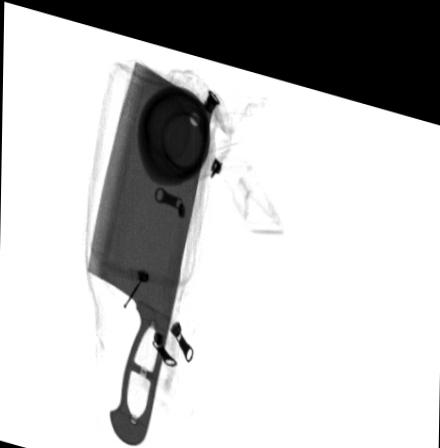Knife: (83, 52, 211, 441)
